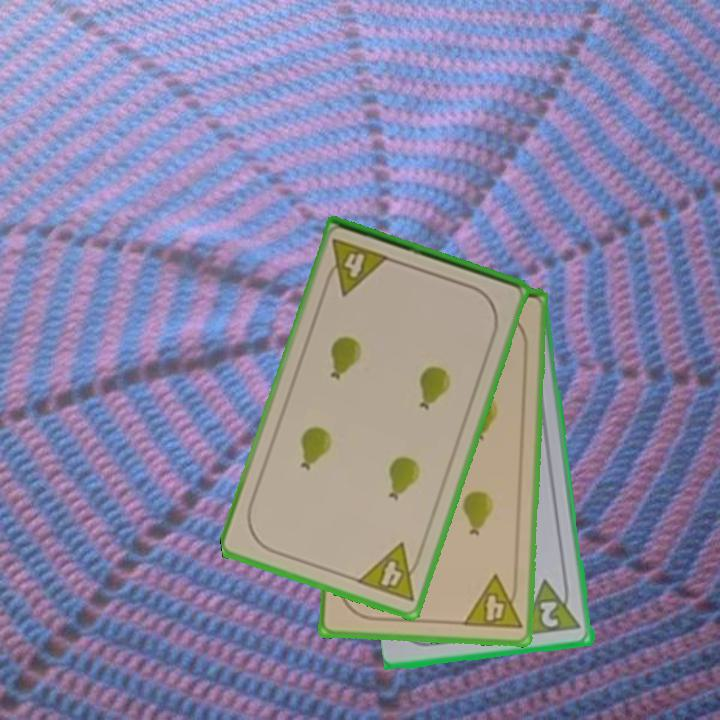2p: (520, 574, 585, 640)
4p: (353, 539, 427, 605), (320, 235, 392, 298), (459, 572, 524, 633)
